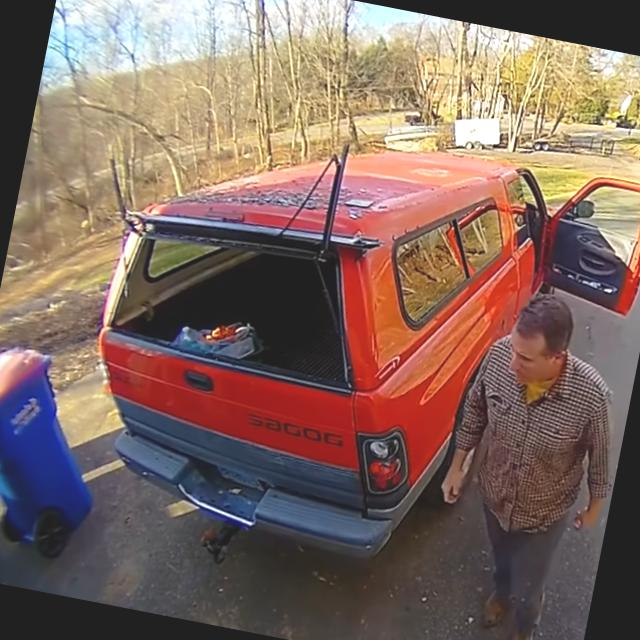person: (409, 281, 640, 640)
